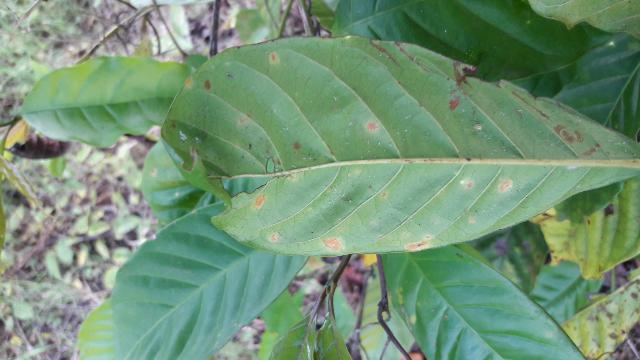rust_level_2: (159, 35, 640, 258)
